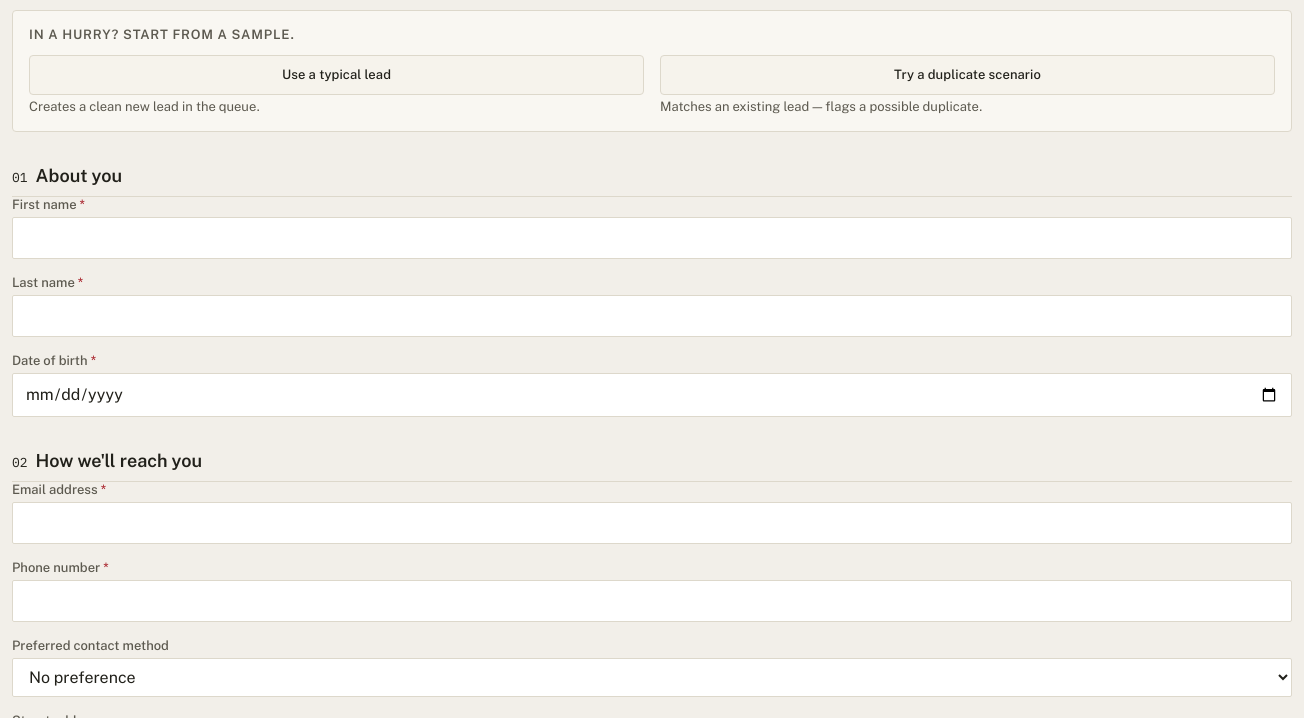
Scenario: ShopperIntakeForm submission › shows a generic form-level error on a network failure
Type "Margaret" into the field with id "shopper-intake-first-name". click: (652, 238)
box: [12,217,1292,259]
Type "Chen" into the field with id "shopper-intake-last-name". click: (652, 316)
box: [12,295,1292,337]
Type "1956-03-12" into the date field with id "shopper-intake-date-of-birth". click: (652, 395)
box: [12,373,1292,417]
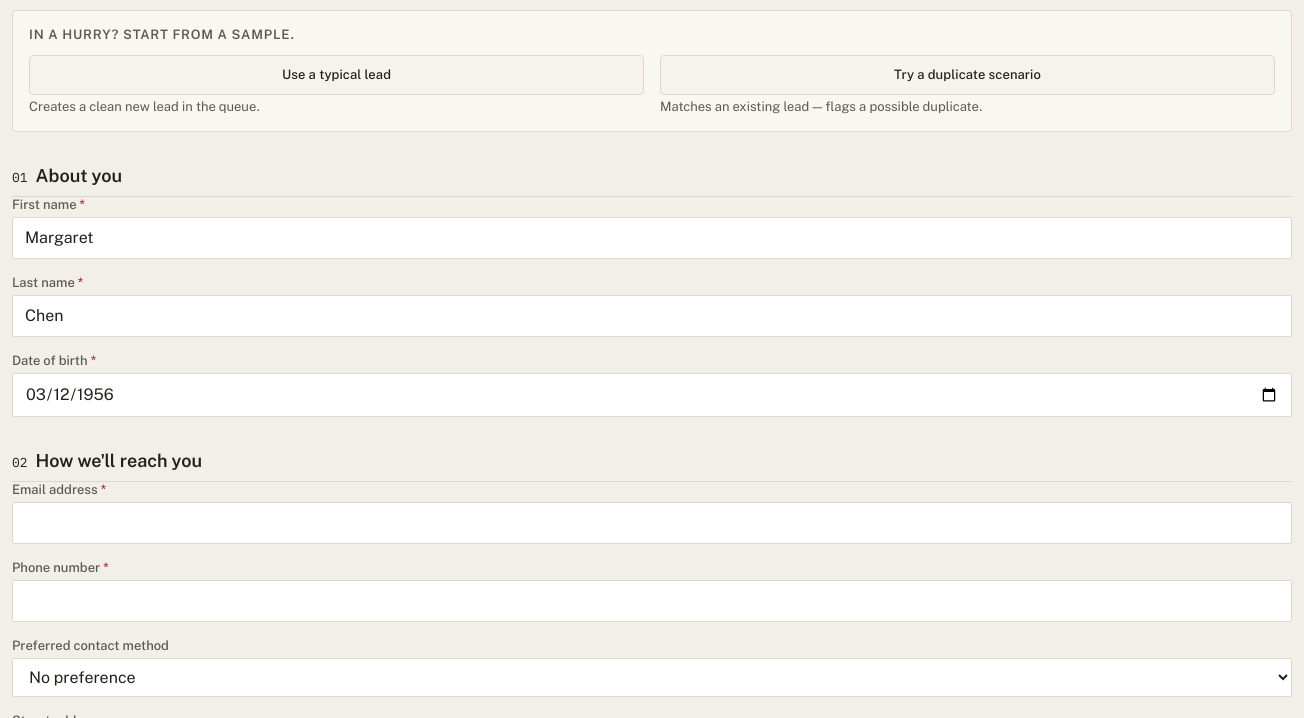
Type "margaret.chen@example.com" into the field with id "shopper-intake-email". click: (652, 523)
box: [12,502,1292,544]
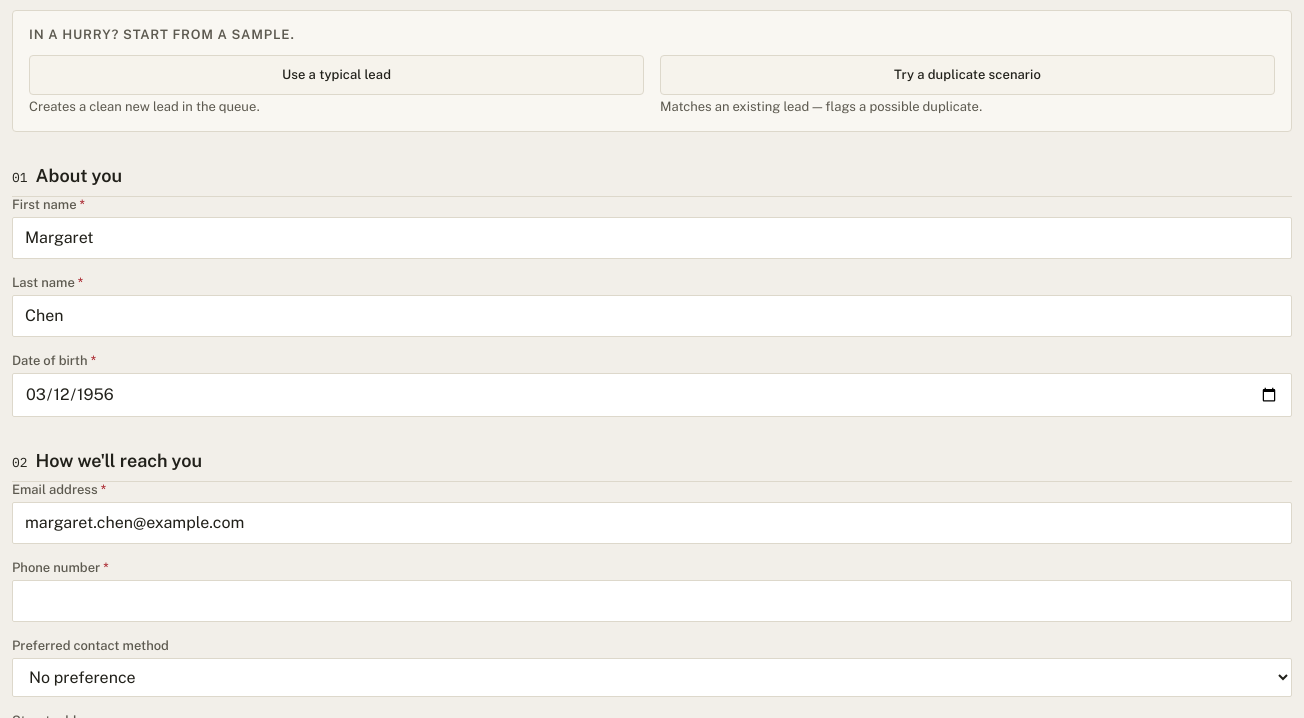
Type "(305) 555-0149" into the field with id "shopper-intake-phone". click: (652, 601)
box: [12,580,1292,622]
(page scrolled)
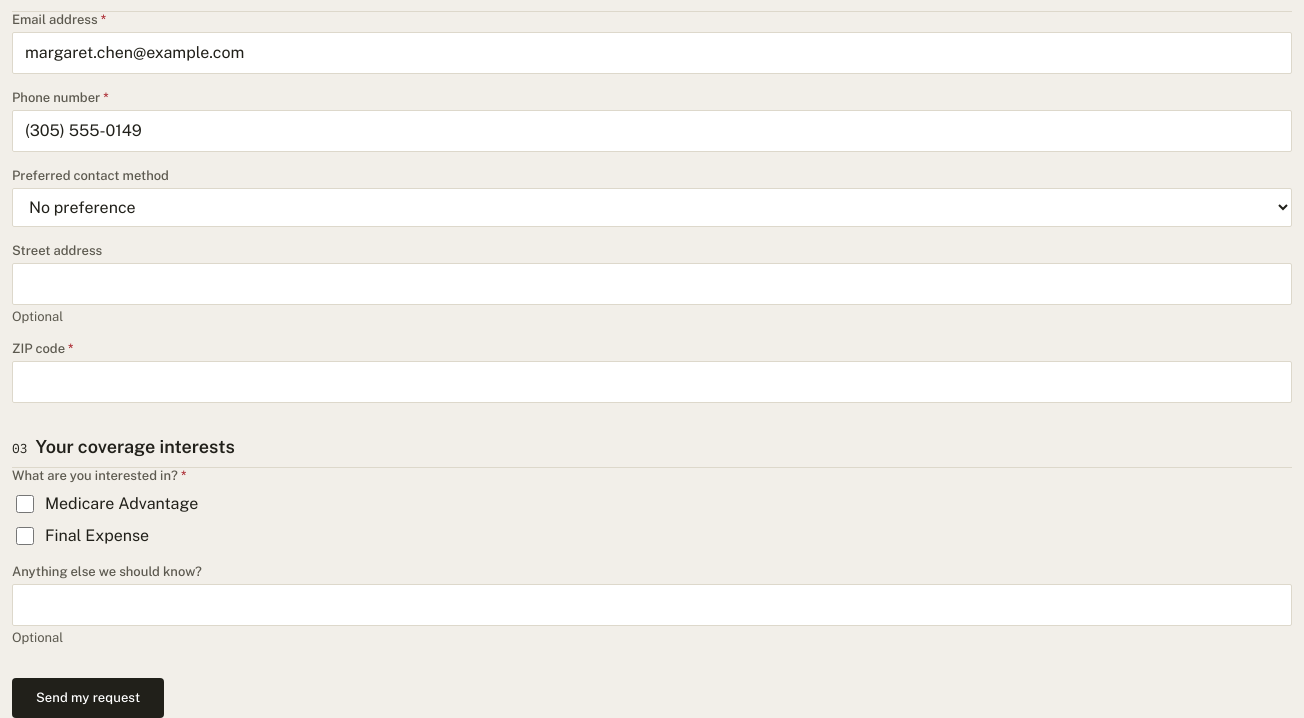
Type "33134" into the field with id "shopper-intake-zip-code". click: (652, 382)
box: [12,361,1292,403]
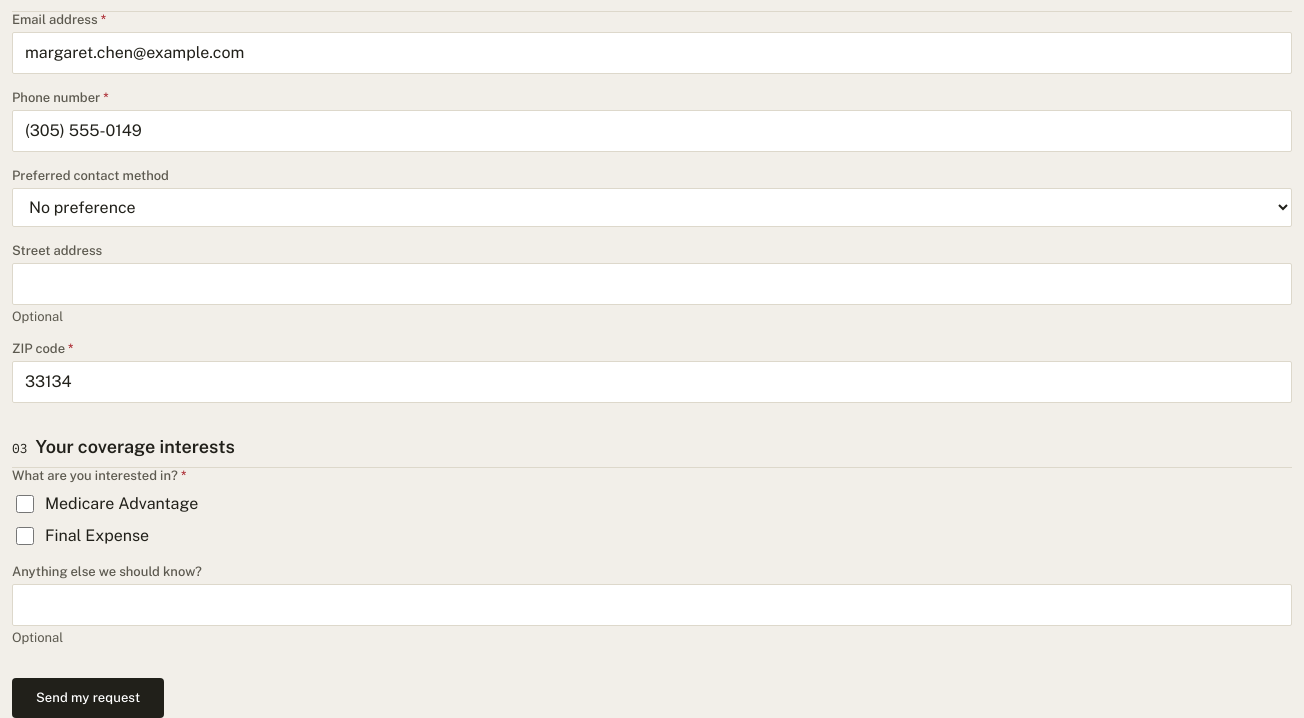
Click the checkbox with id "shopper-intake-product-lines-option-medicare_advantage". click: (25, 504)
box: [16,495,34,513]
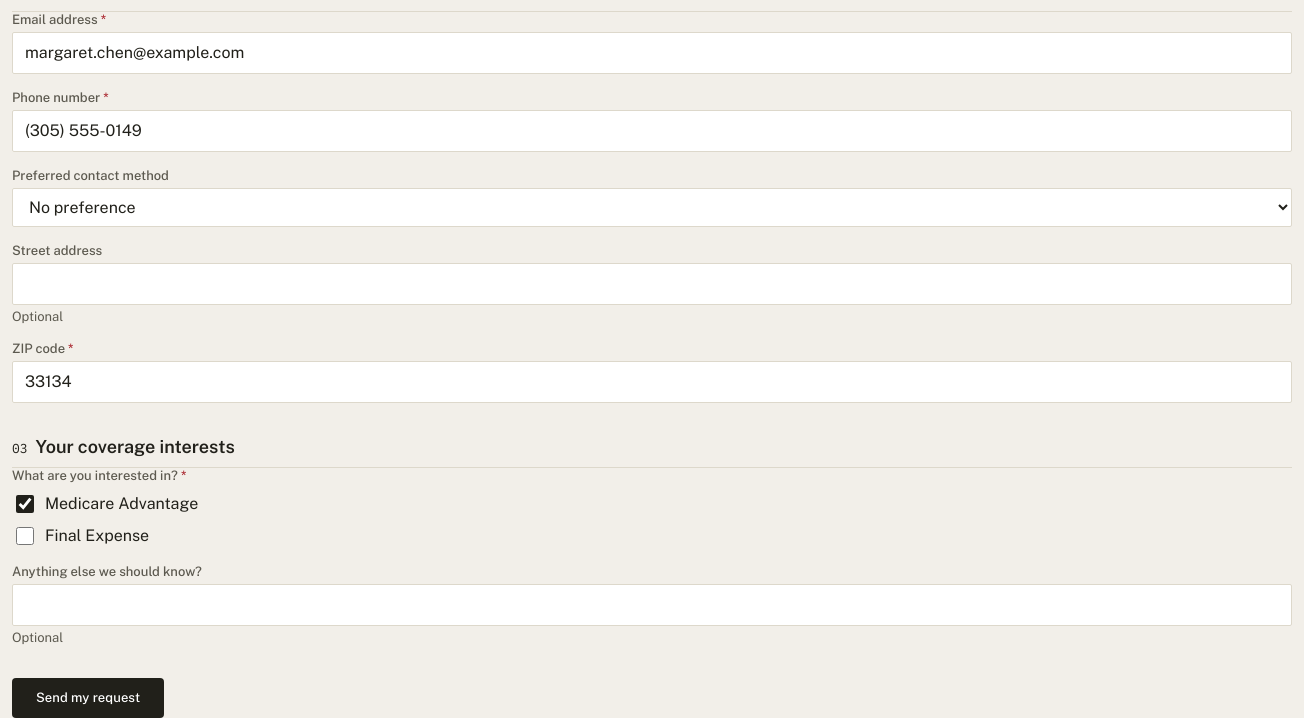
Click the button with id "shopper-intake-submit". click: (88, 698)
box: [12,678,164,717]
(page scrolled)
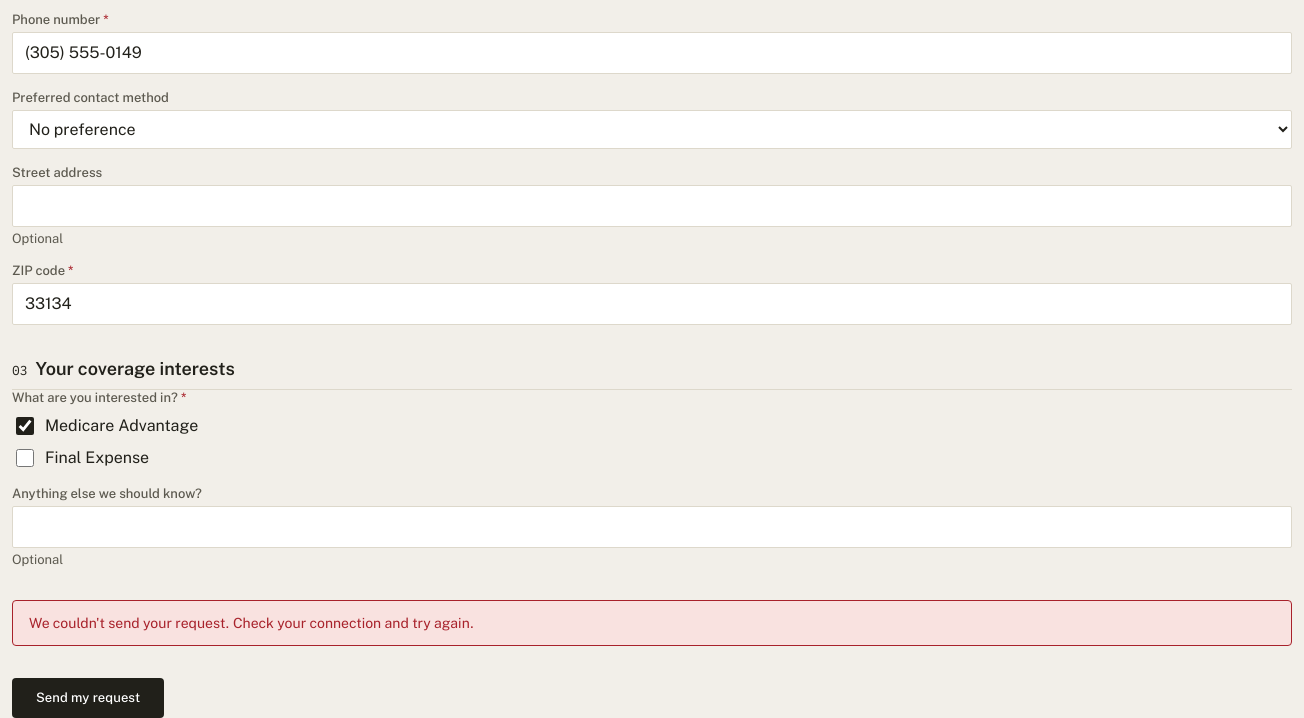
Result: the message with id "shopper-intake-submit-error" shows "We couldn't send your request" at [29,615,474,631]
